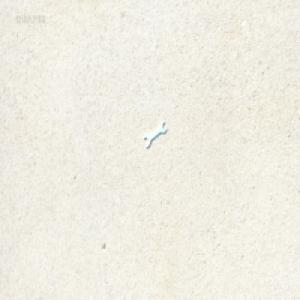Wrench: (142, 117, 164, 146)
